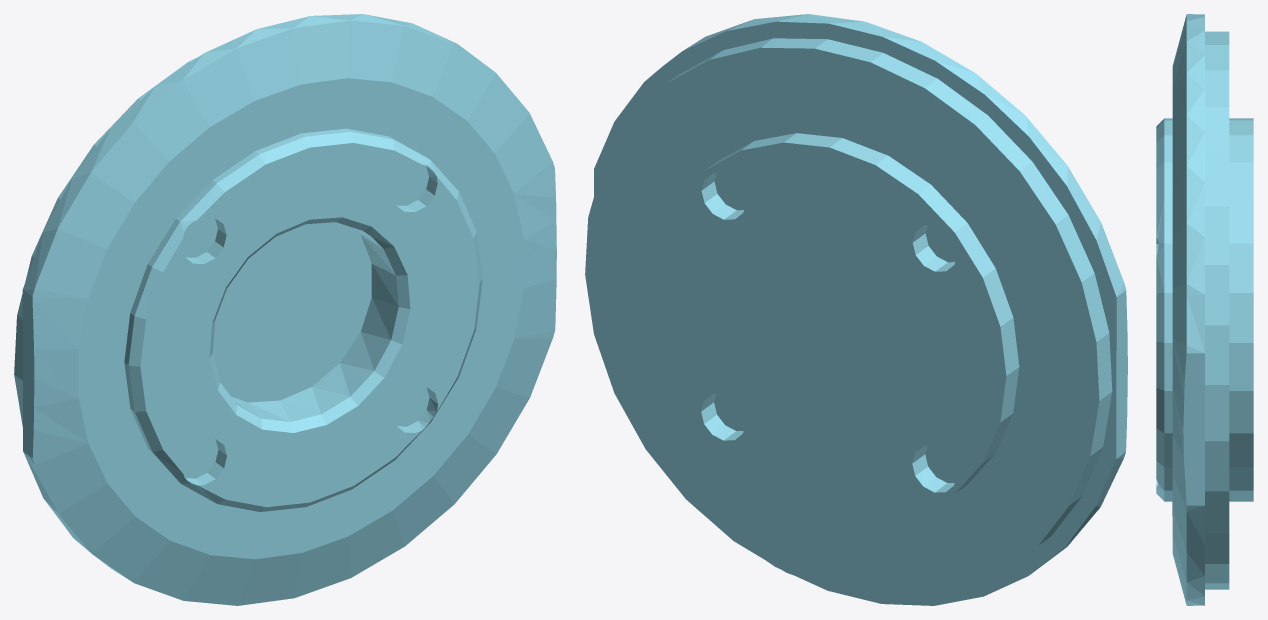
3 views of the same model, side by side, from view 1: azimuth 30°, elevation 25°; view 2: azimuth 150°, elevation 25°; view 3: azimuth 270°, elevation 25° (orthographic). The views are drawn at different scales.
Visible parts, largest first — view 1: link7; view 2: link7; view 3: link7.
Part boxes in pixels (left/top/right/bottom): link7: left=14, top=14, right=556, bottom=605; link7: left=585, top=14, right=1127, bottom=605; link7: left=1156, top=14, right=1253, bottom=605.
Bounding box in the file's own units: 0.07 × 0.073 × 0.012.
